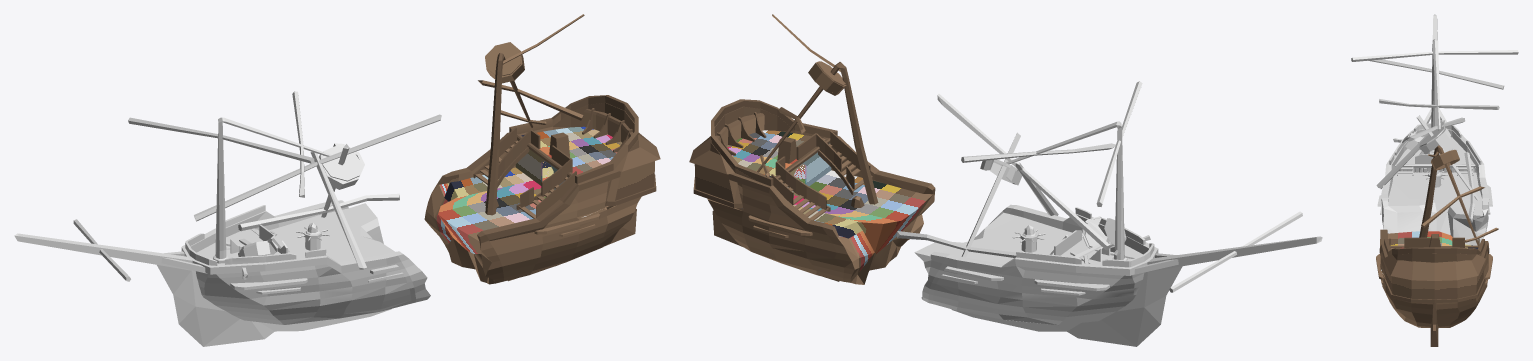
Rendered from SunkenShipFront._Collision.fbx.
3 renders of one model, left to right at view 1: azimuth 30°, elevation 25°; view 2: azimuth 150°, elevation 25°; view 3: azimuth 270°, elevation 25°, orthographic. The views are drawn at different scales.
Visible parts, largest first — view 1: SunkenShipFront._Collision, SunkenShipBack_Collision; view 2: SunkenShipFront._Collision, SunkenShipBack_Collision; view 3: SunkenShipFront._Collision, SunkenShipBack_Collision.
Boxes of the visible parts, x1,y1,x2,y2 form: SunkenShipFront._Collision: [14, 91, 441, 346]; SunkenShipBack_Collision: [424, 14, 660, 284]; SunkenShipFront._Collision: [897, 81, 1322, 346]; SunkenShipBack_Collision: [689, 14, 935, 284]; SunkenShipFront._Collision: [1351, 14, 1518, 245]; SunkenShipBack_Collision: [1376, 145, 1498, 346].
Size of the model in its own units: 102 by 39.4 by 31.84.
